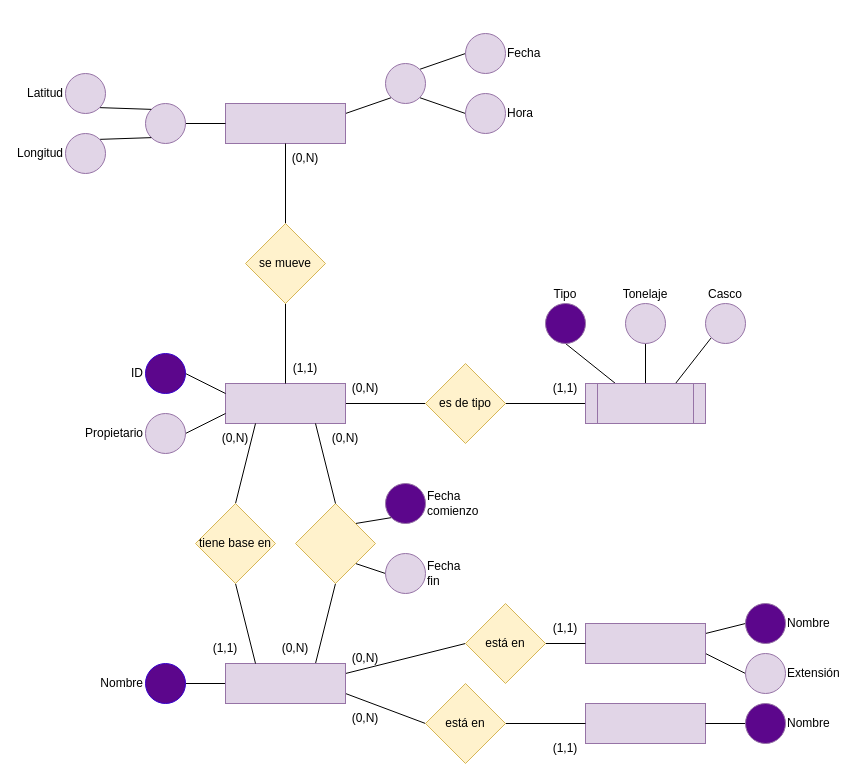
Some shapes in this 857 by 781 pixel diagram are drawn without their labels. The centre of each missing label's shape, as x and y in pixels:
"Barco" belongs at point 285,403.
"Georreferenciación" belongs at point 165,123.
"Instante de tiempo" belongs at point 405,83.
"Movimiento" belongs at point 285,123.
"Océano" belongs at point 645,723.
"País" belongs at point 645,643.
"Puerto" belongs at point 285,683.
"Tipo de barco" belongs at point 645,403.
"visita" belongs at point 335,543.
